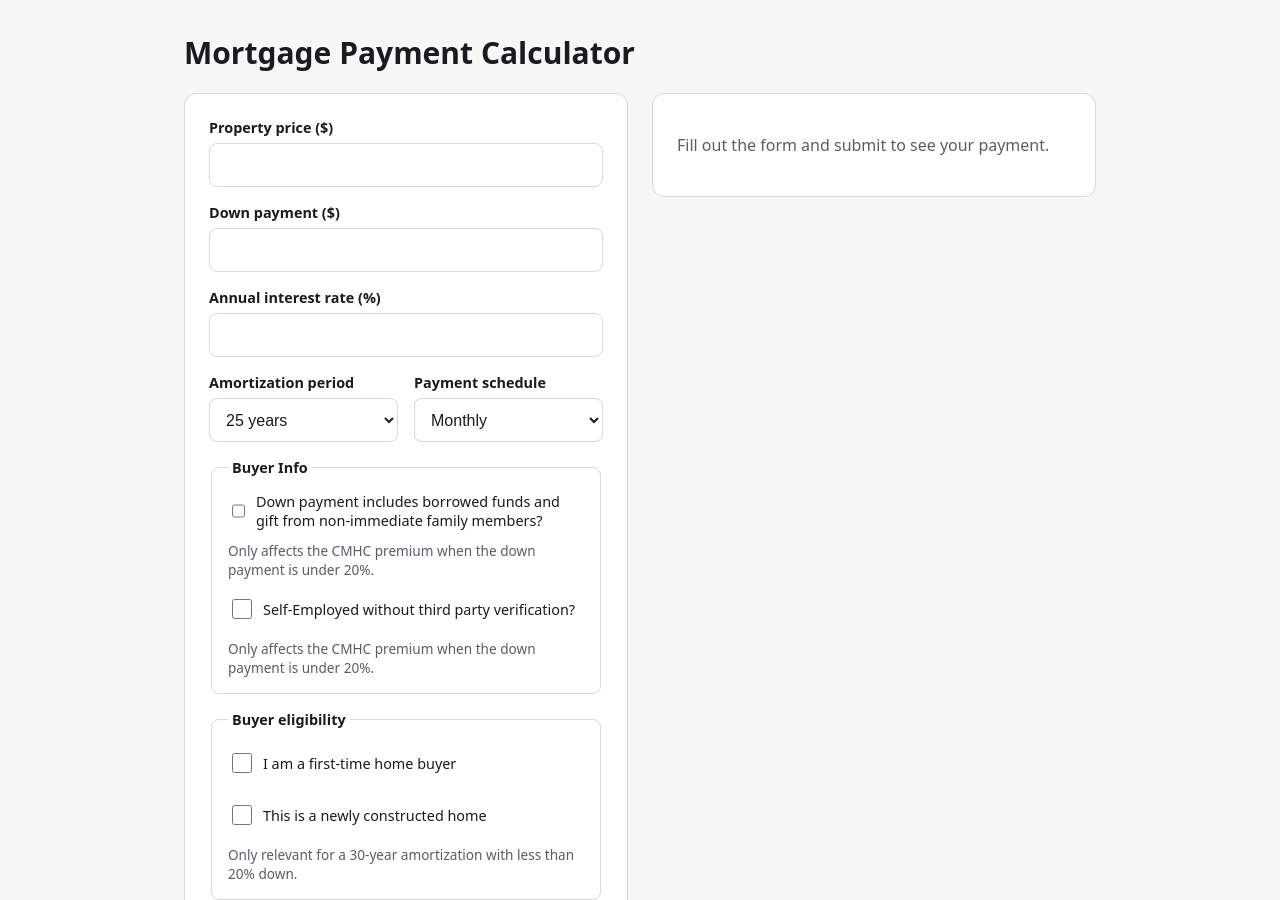
Test case: App › shows the accelerated bi-weekly caveat and its simulated (not naive) Total Mortgage
Type "500000" into the field labelled "Property price ($)" at {"x": 406, "y": 165}, box x1=209 y1=143 x2=603 y2=187
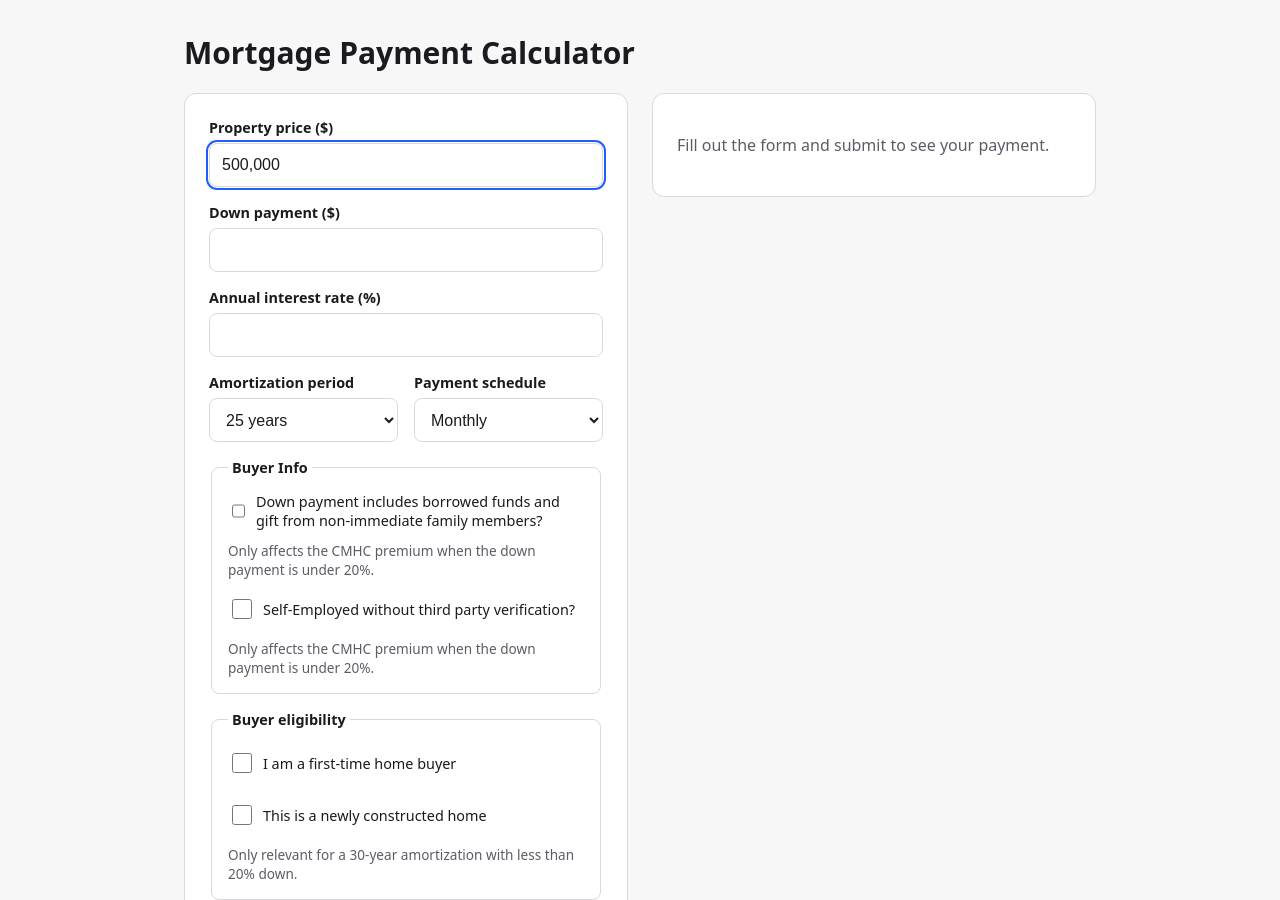
Type "100000" into the field labelled "Down payment ($)" at {"x": 406, "y": 250}, box x1=209 y1=228 x2=603 y2=272
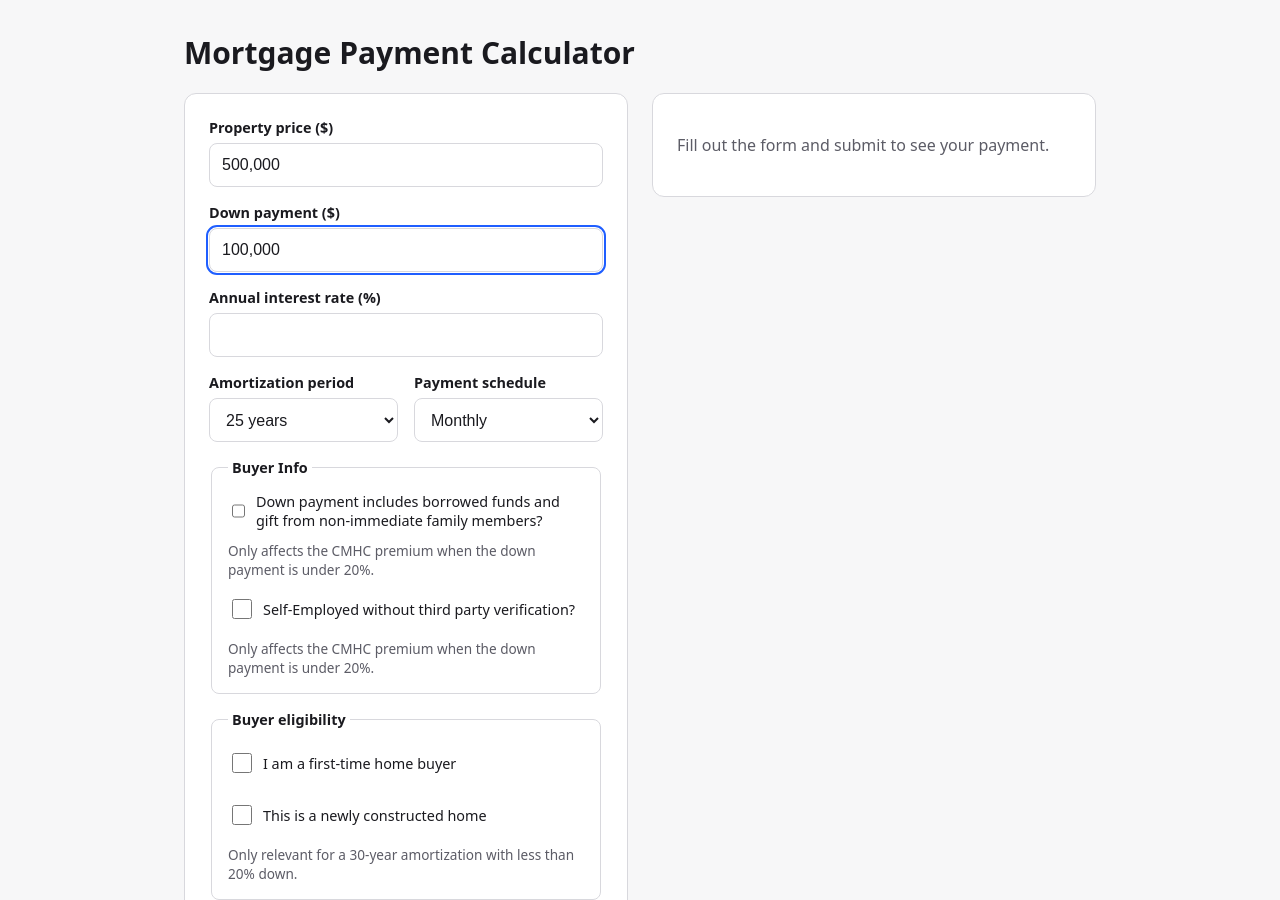
Type "5" into the number field labelled "Annual interest rate (%)" at {"x": 406, "y": 335}, box x1=209 y1=313 x2=603 y2=357
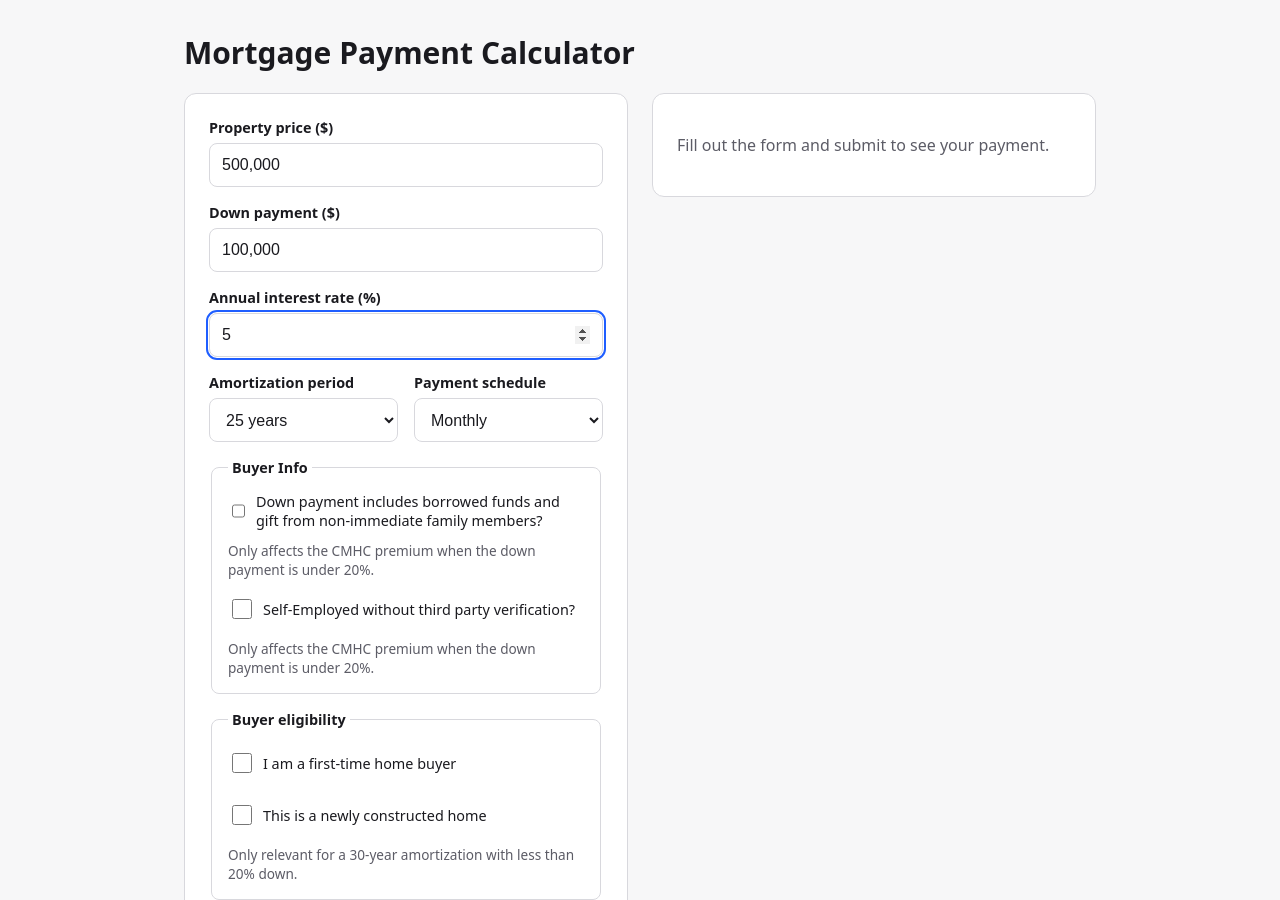
Select "Accelerated bi-weekly" in the dropdown labelled "Payment schedule" at {"x": 508, "y": 420}, box x1=414 y1=398 x2=603 y2=442
(page scrolled)
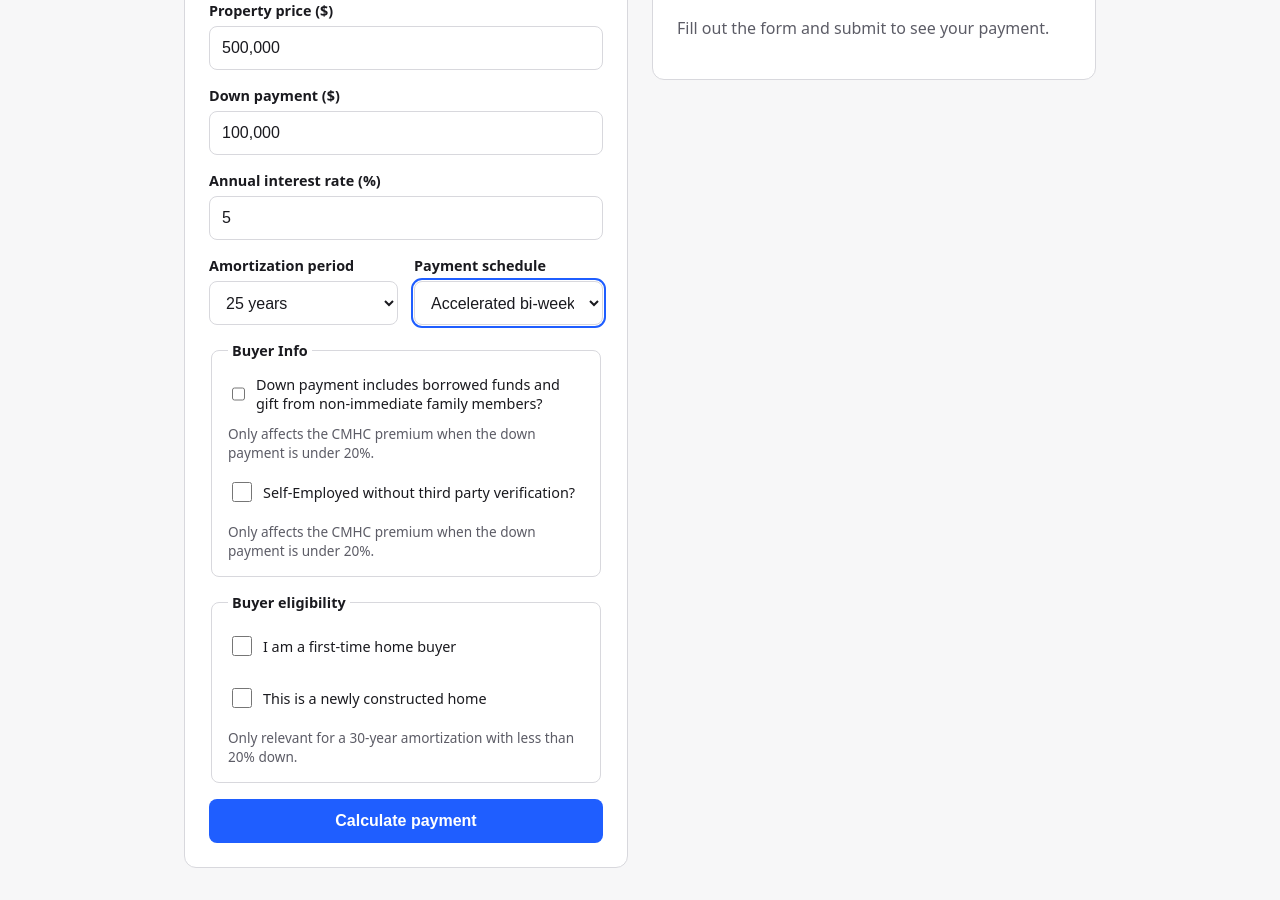
Click the button "Calculate payment" at {"x": 406, "y": 821}, box x1=209 y1=799 x2=603 y2=843
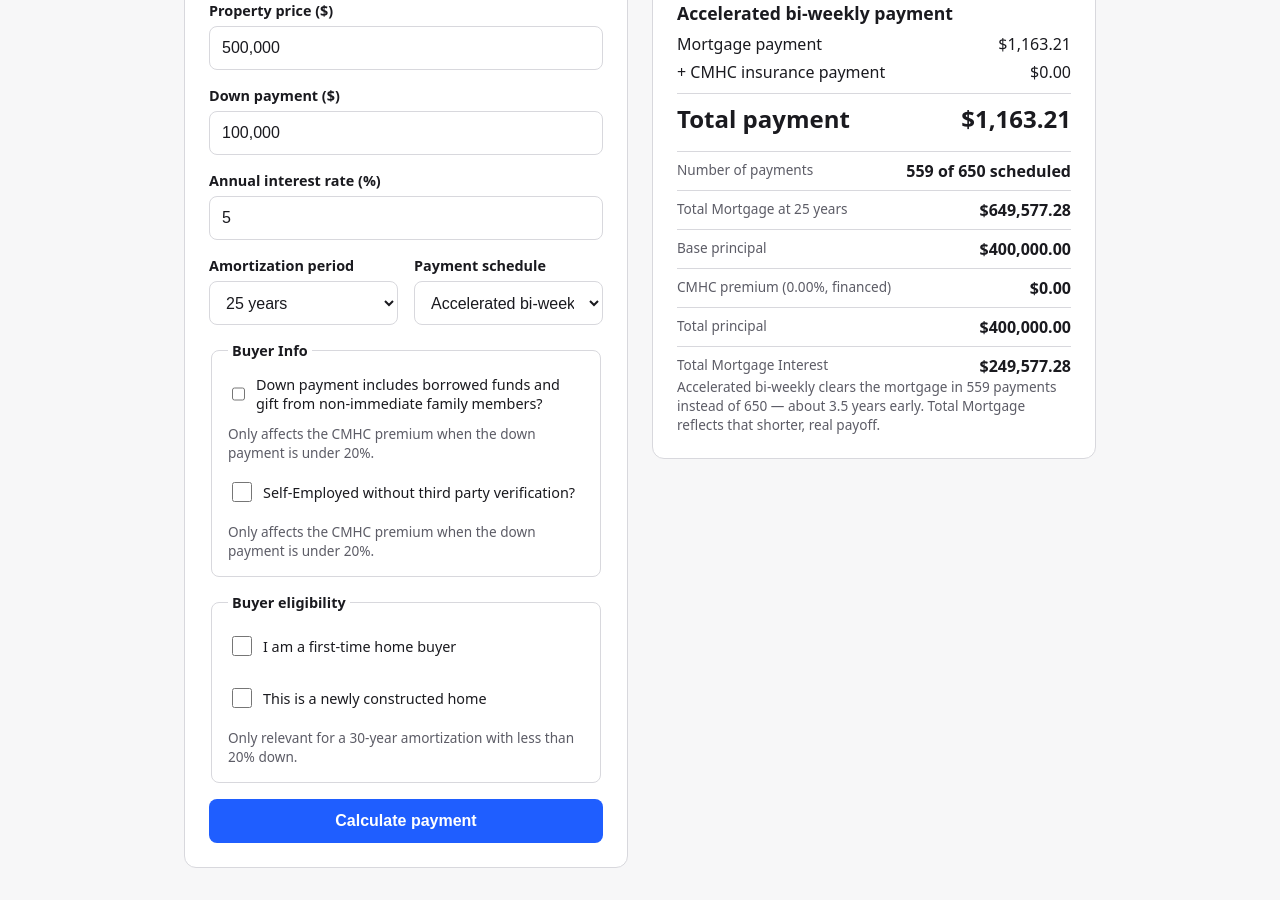
Expected: the text "Total Mortgage at 25 years" is shown, x1=677 y1=199 x2=848 y2=221
Expected: the text "$649,577.28" is shown, x1=980 y1=199 x2=1071 y2=221
Expected: the text "559 of 650 scheduled" is shown, x1=906 y1=160 x2=1071 y2=182
